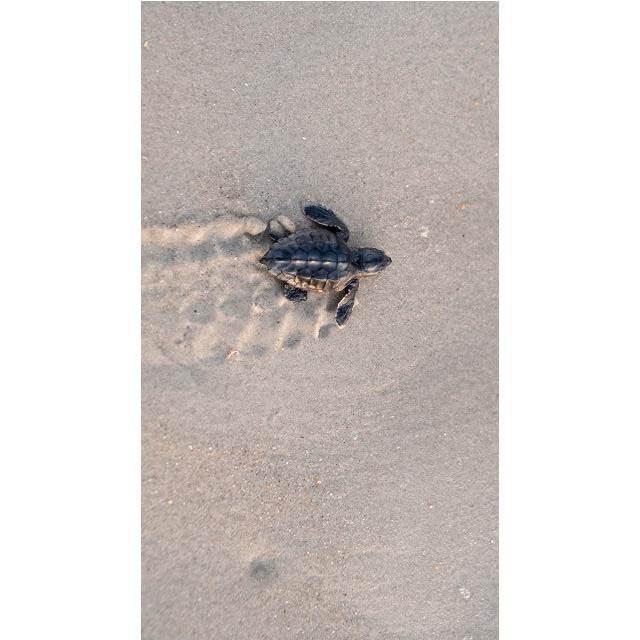turtle: (260, 206, 392, 327)
